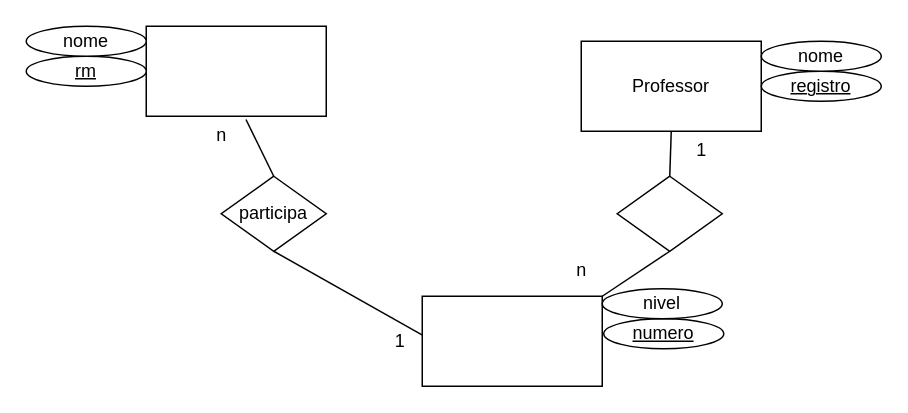
Image size: 908x413. Some labels were removed from this diagram. Each missing label, with the centre of its shape:
"Aluno" goes at point (235, 70).
"lecionar" goes at point (669, 213).
"Turma" goes at point (511, 340).
